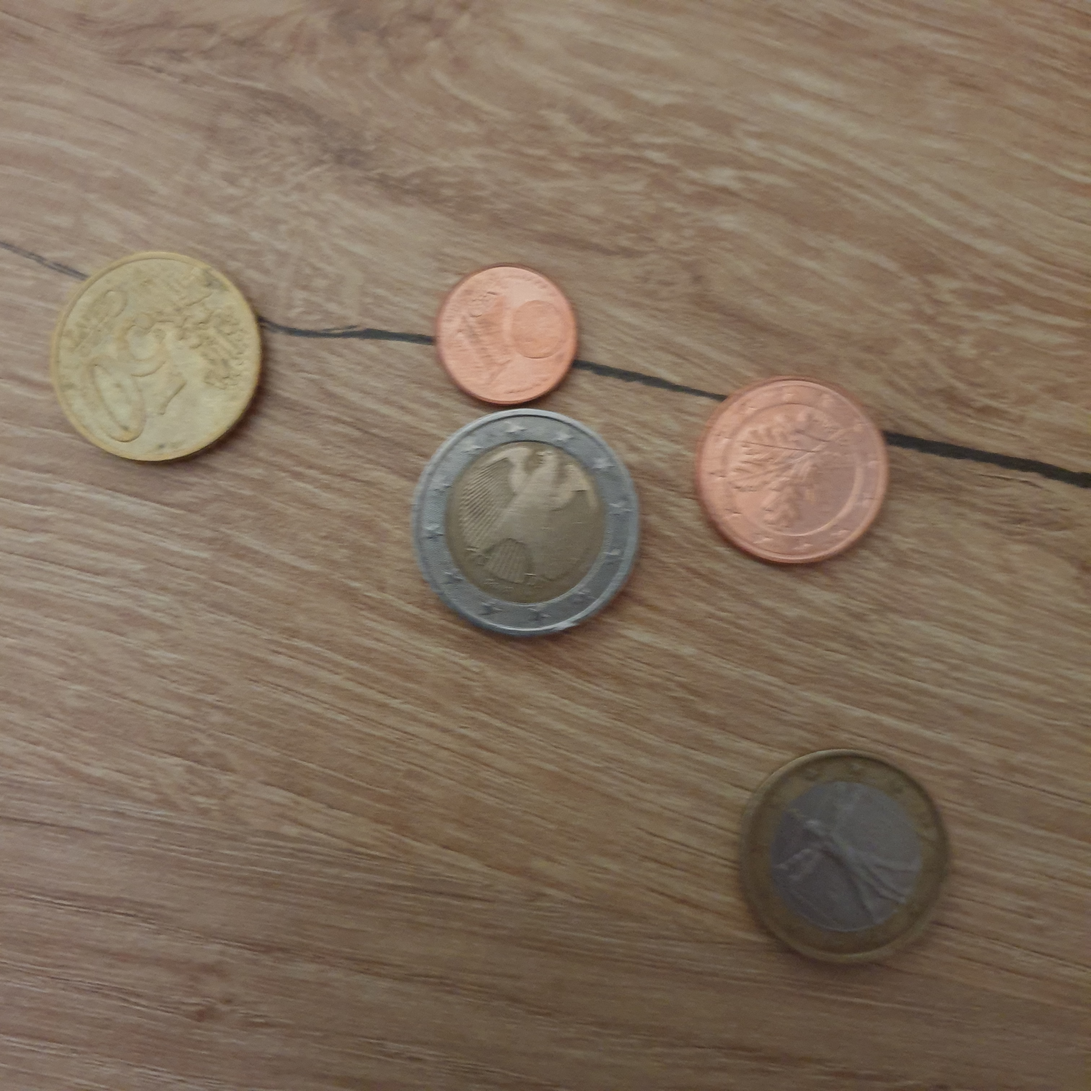1 cent: (720, 743, 965, 968), (423, 259, 587, 414)
1 euro: (407, 409, 634, 637)
5 cent: (692, 374, 893, 572)
50 cent: (44, 245, 268, 472)
